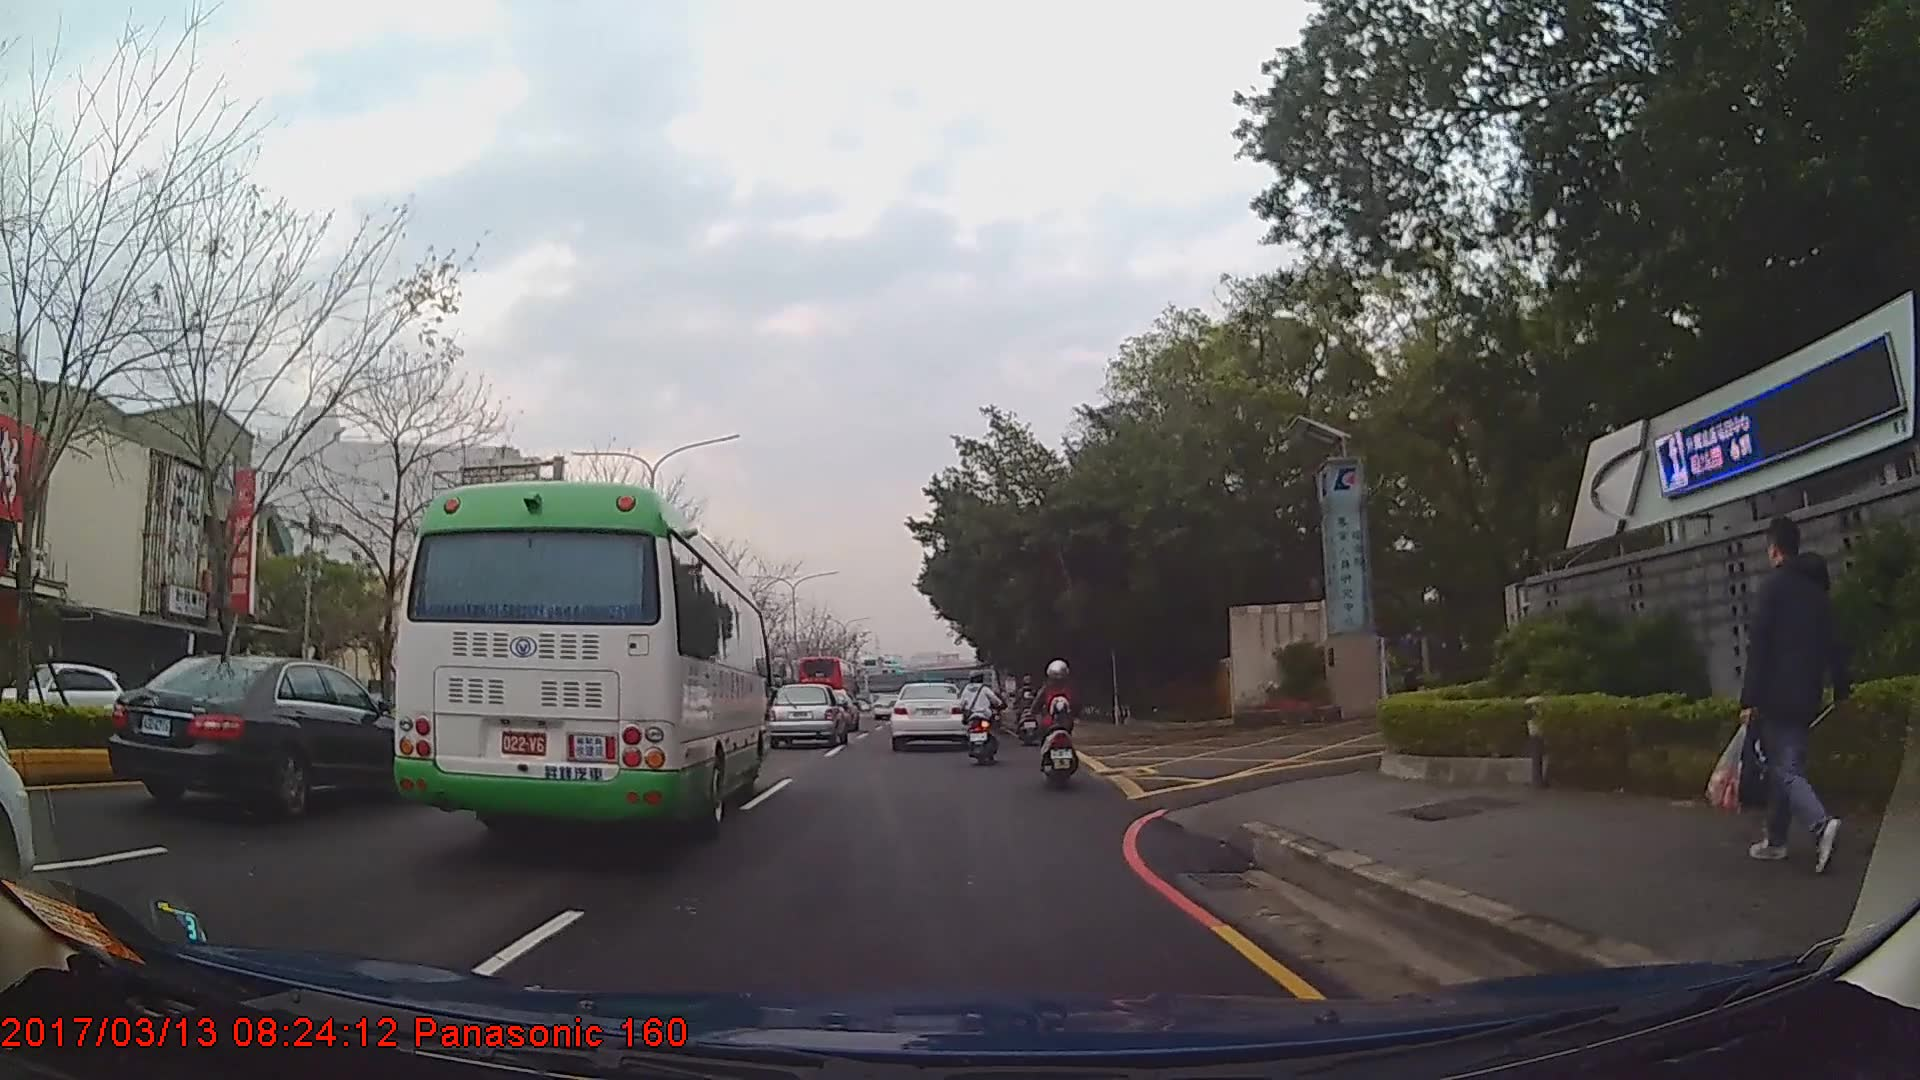pedestrian: (1708, 520, 1857, 865)
rider: (1039, 665, 1082, 796), (957, 677, 999, 772), (1015, 677, 1044, 751)
vehicle: (382, 483, 768, 850), (107, 655, 434, 825), (0, 657, 123, 746), (889, 682, 968, 753), (770, 684, 850, 748), (795, 657, 857, 721)
